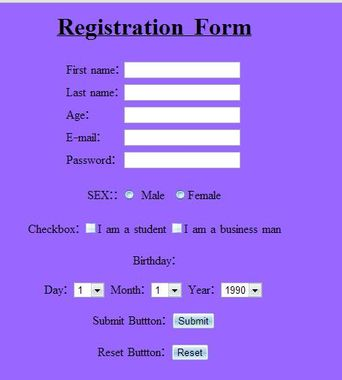_form_: (1, 1, 342, 380)
button: (170, 312, 216, 329), (171, 344, 209, 360)
checkbox: (85, 222, 97, 234), (172, 222, 182, 233)
checkbox_with_label: (169, 220, 283, 235), (82, 221, 168, 235), (29, 220, 99, 236)
field: (123, 60, 241, 79), (122, 105, 240, 124), (123, 128, 240, 147), (122, 151, 240, 169), (123, 84, 240, 101)
field_with_label: (66, 127, 241, 148), (67, 59, 241, 80), (67, 81, 241, 102), (67, 103, 241, 124), (67, 150, 241, 171), (93, 311, 218, 330), (97, 342, 211, 362), (187, 281, 267, 301), (110, 281, 184, 300), (44, 281, 107, 300)
radio: (174, 189, 187, 200), (124, 188, 135, 199)
radio_with_label: (172, 187, 222, 201), (86, 187, 135, 200), (122, 187, 165, 201)
select: (220, 282, 264, 299), (151, 282, 183, 299), (73, 282, 104, 299)
